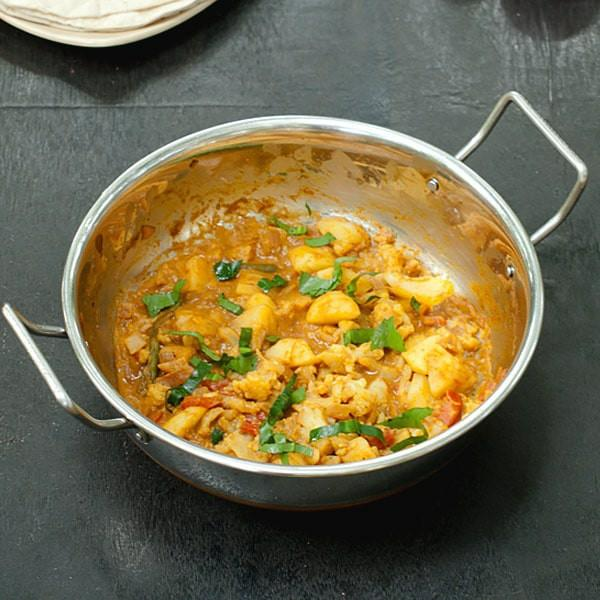AlooGobi: (113, 215, 495, 465)
